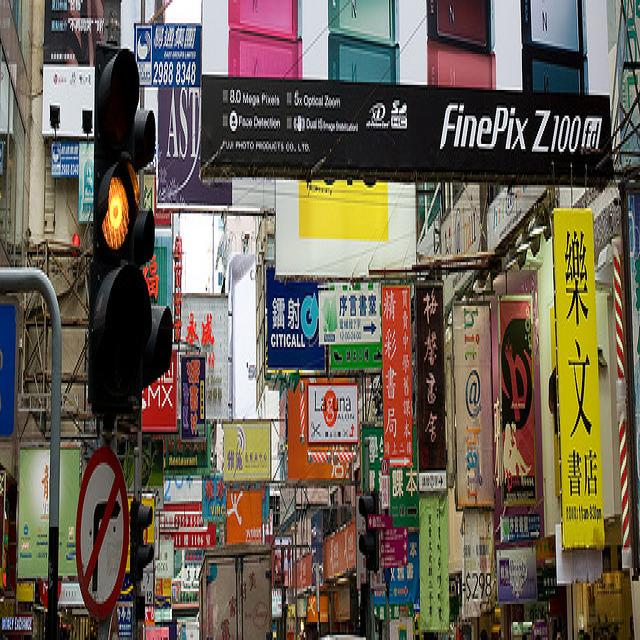Vehicle: (199, 540, 272, 640)
